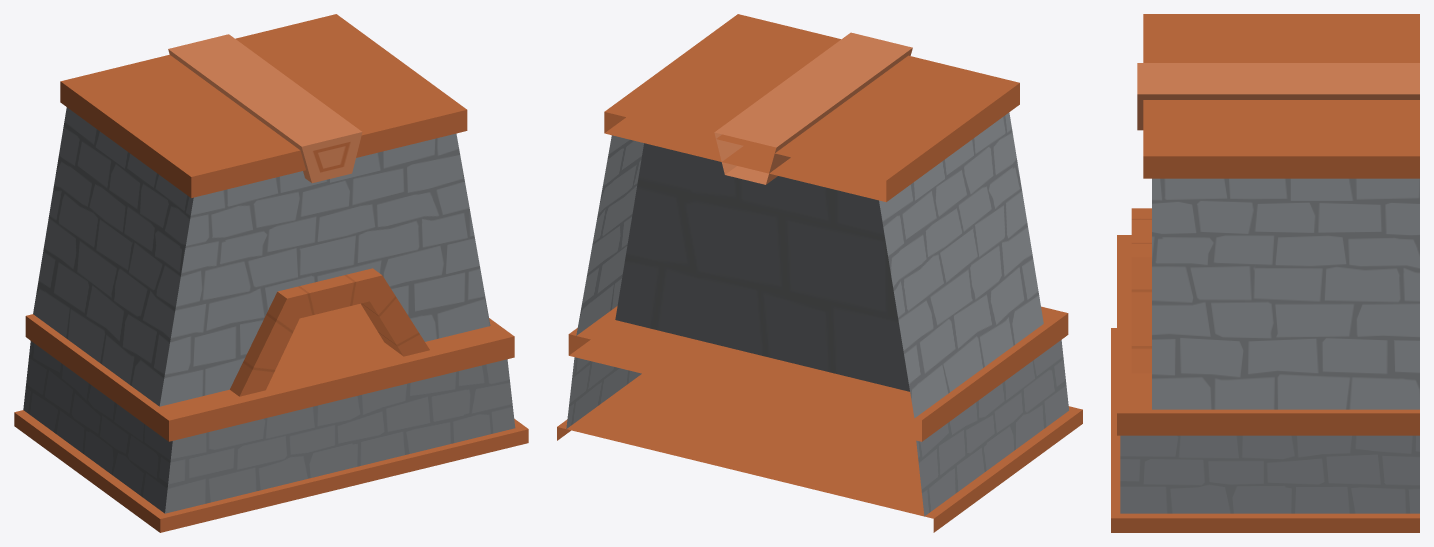
Rendered from Oven 01.fbx.
3 views of the same model, side by side, from view 1: azimuth 30°, elevation 25°; view 2: azimuth 150°, elevation 25°; view 3: azimuth 270°, elevation 25° (orthographic). The views are drawn at different scales.
Visible parts, largest first — view 1: Oven_01; view 2: Oven_01; view 3: Oven_01.
Boxes of the visible parts, bbox=[...] form: Oven_01: bbox=[14, 14, 528, 532]; Oven_01: bbox=[557, 14, 1082, 532]; Oven_01: bbox=[1111, 14, 1419, 532].
Size of the model in its own units: 278 by 245 by 191.
